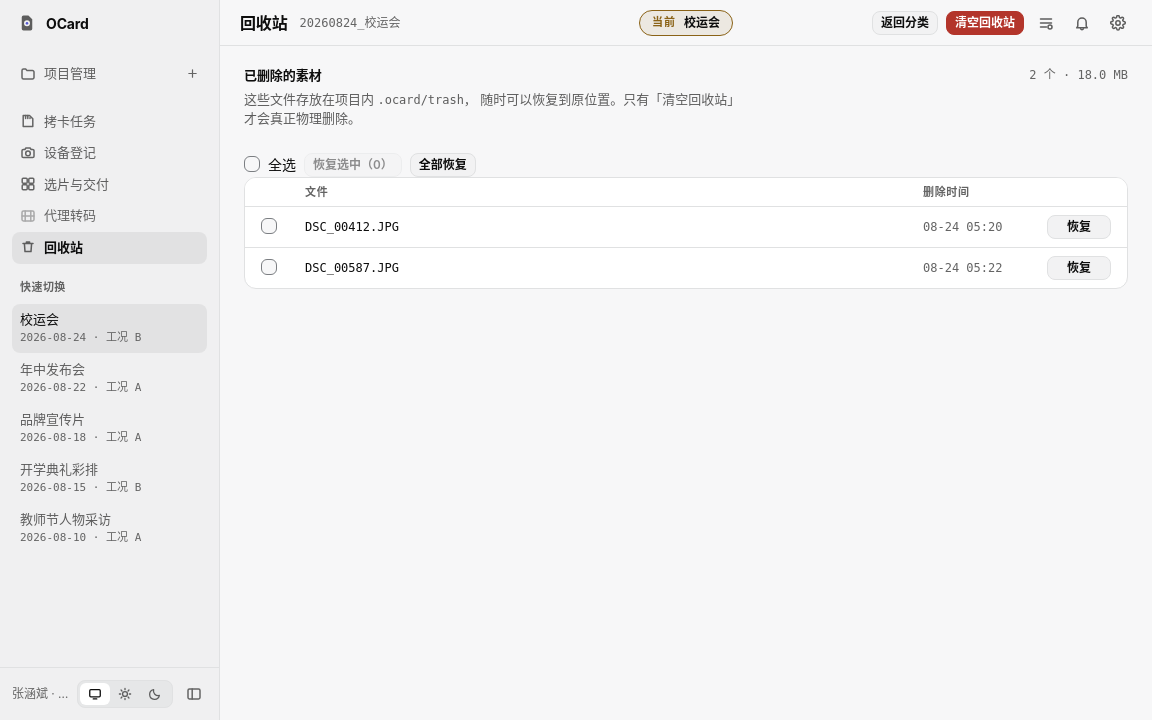
Scenario: 回收站 › 恢复失败经通知中心报出来，不静默
The width and height of the screenshot is (1152, 720).
What coordinates should you click on to do the following:
click the button with test id "trash-restore" next to "08-24 05:20"
I would click on:
 (1079, 227)
Its box is [1047,215,1111,239].
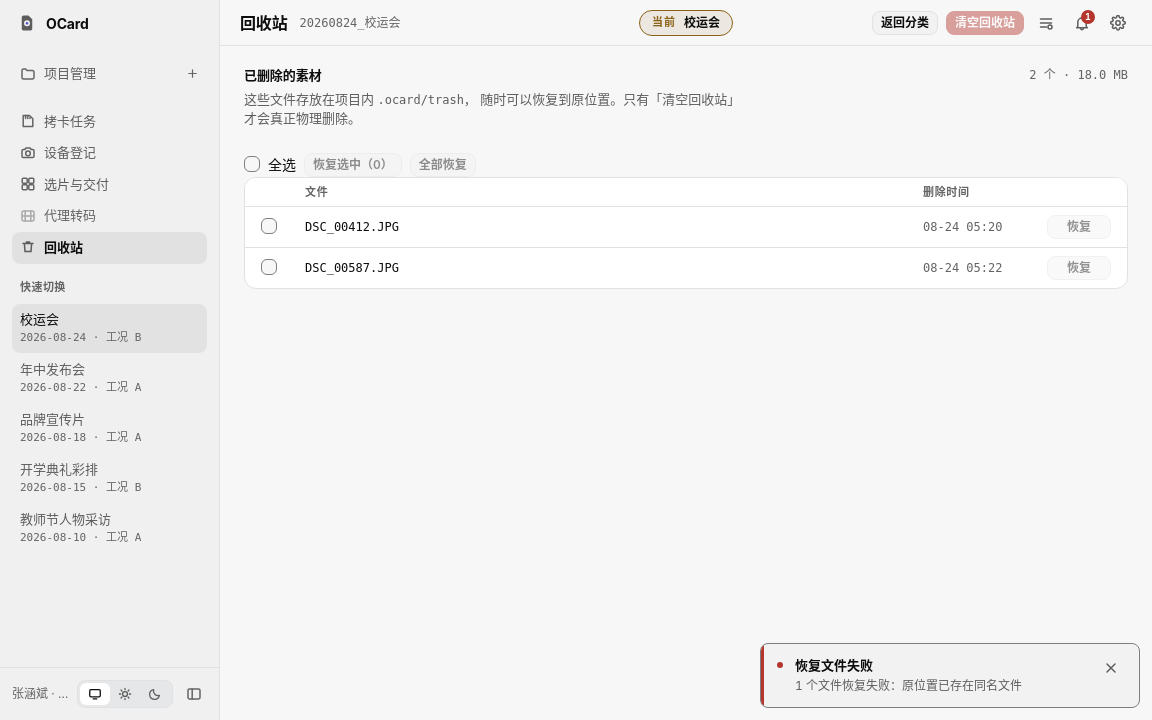
What coordinates should you click on to do the following:
click the button with test id "notice-bell" showing "1"
I would click on:
 (1082, 22)
Its box is [1068,8,1096,36].
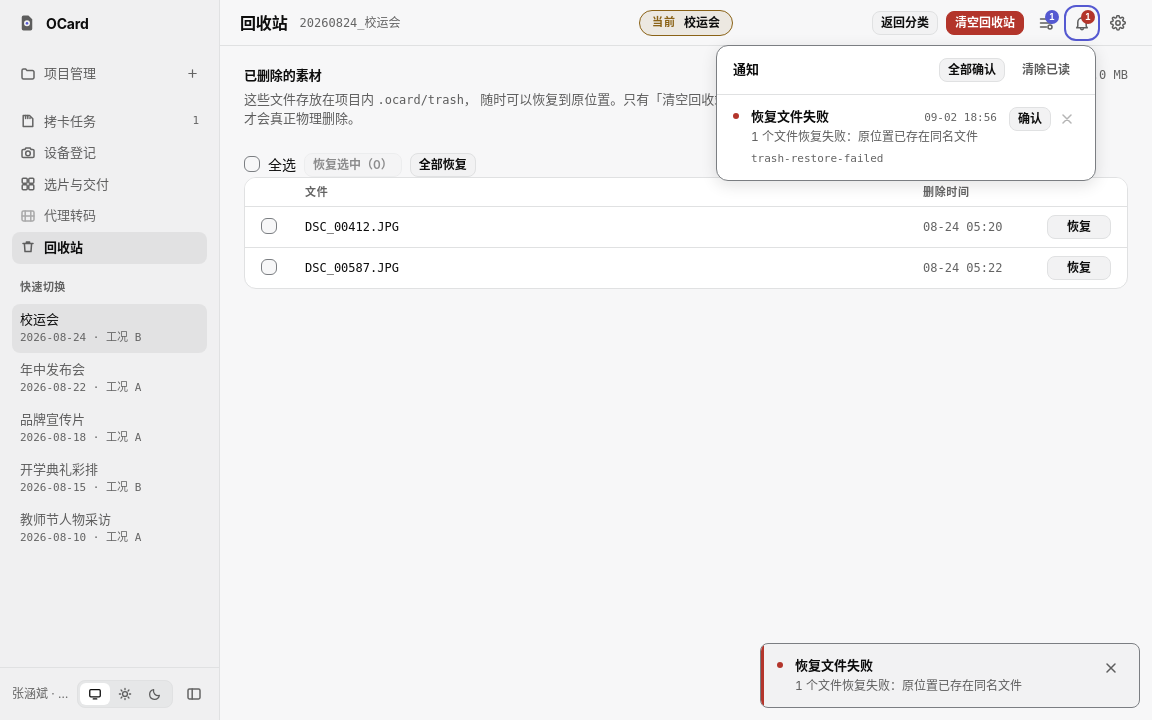
Expected: the element with test id "notice-item" shows "原位置已存在同名文件", [751,129,978,144]
